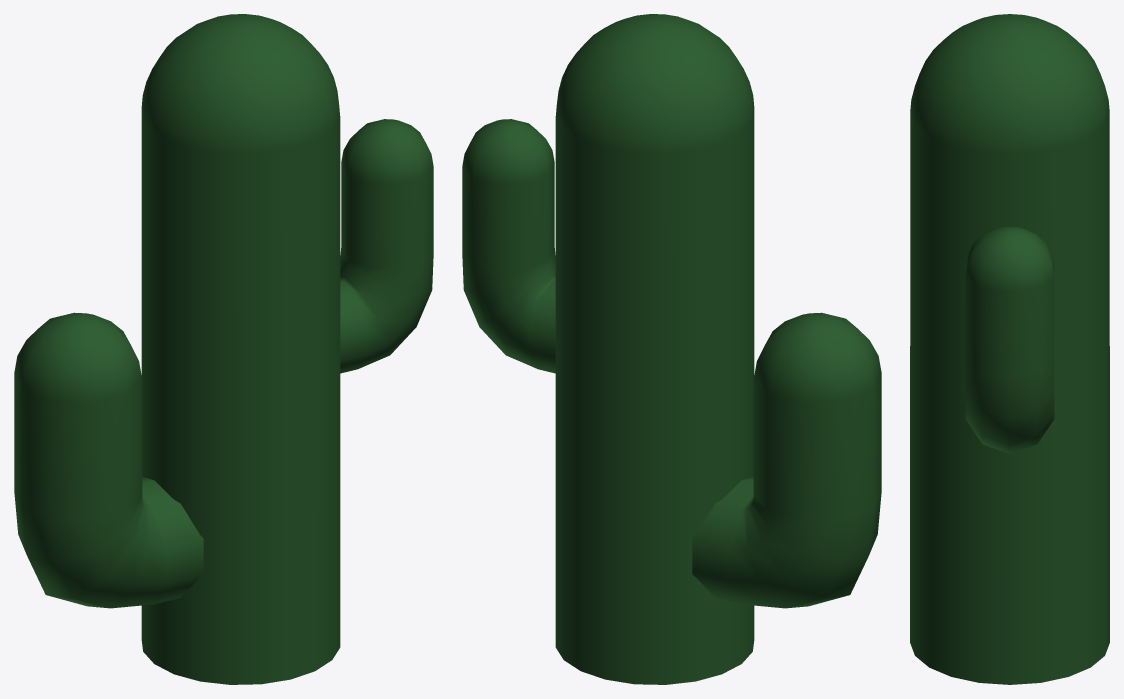
Rendered from Cactus_01.fbx.
The picture shows the model from 3 angles, left to right: view 1: azimuth 30°, elevation 25°; view 2: azimuth 150°, elevation 25°; view 3: azimuth 270°, elevation 25°; orthographic projection.
Visible parts, largest first — view 1: pSphere6; view 2: pSphere6; view 3: pSphere6.
Part boxes in pixels (x1,y1,x2,y2): pSphere6: (14,14,433,684); pSphere6: (462,14,881,684); pSphere6: (910,14,1109,684).
Bounding box in the file's own units: 80.98 × 118 × 34.6.
